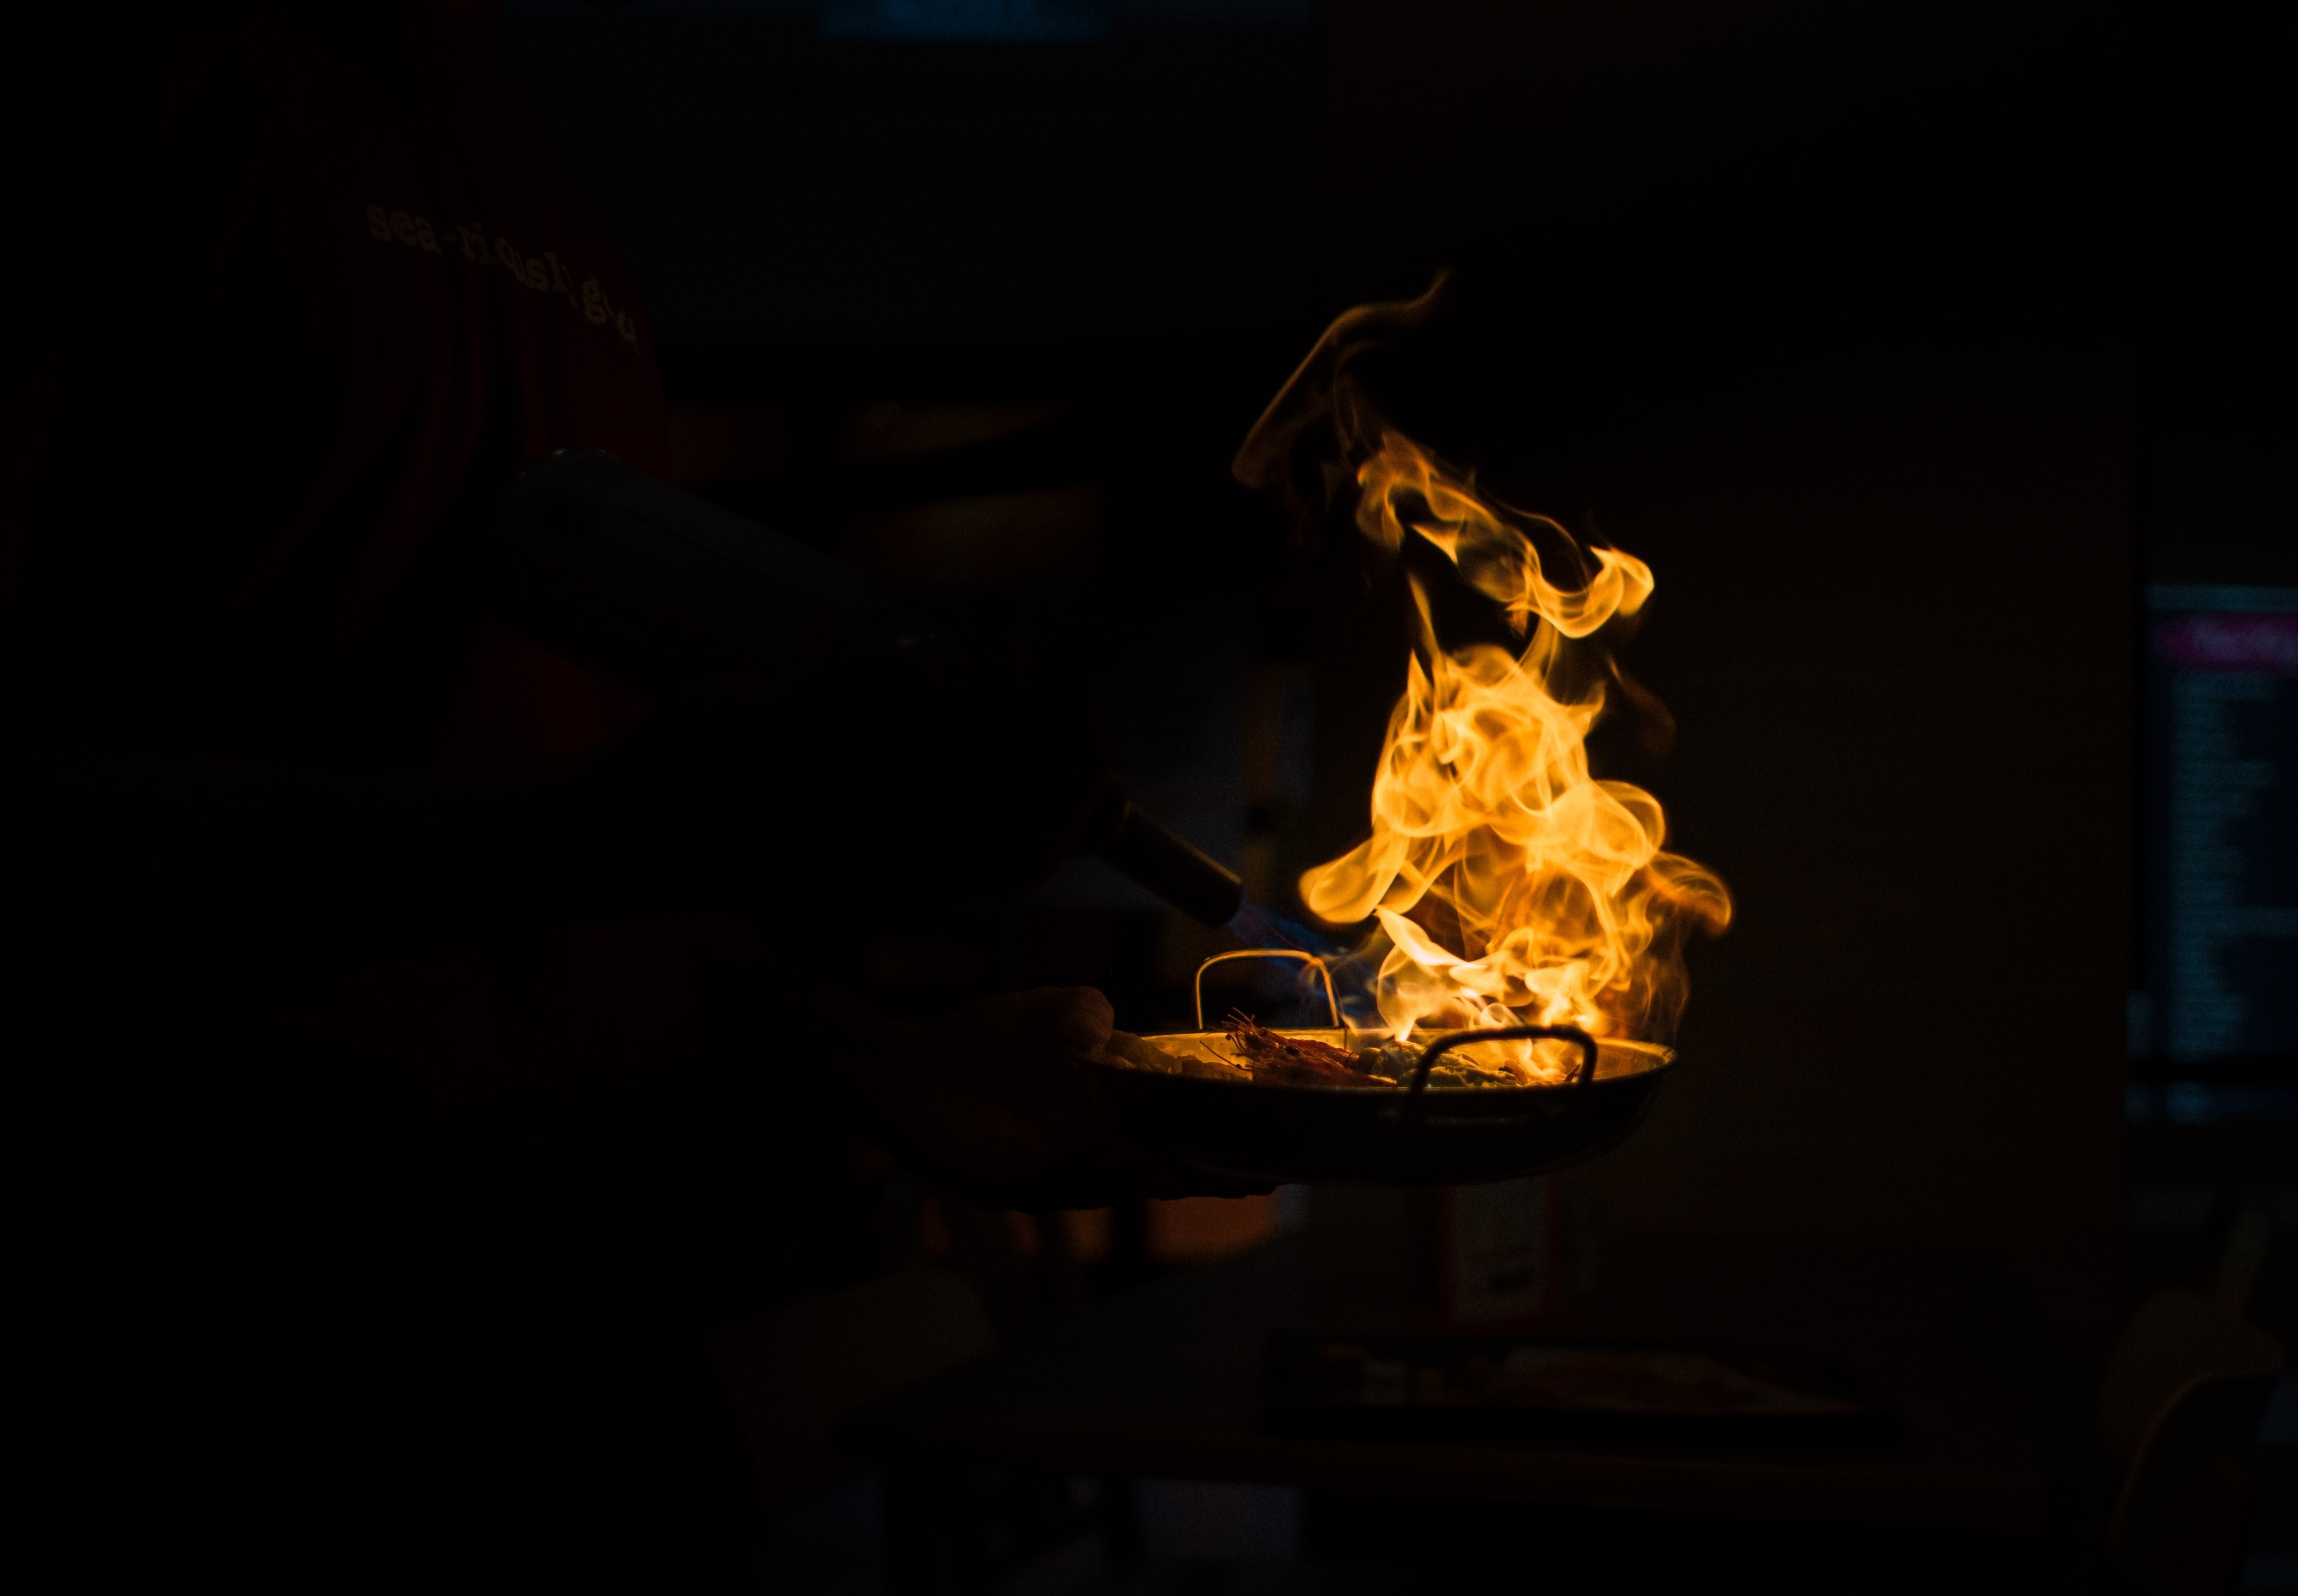fire: (1156, 309, 1737, 1088)
